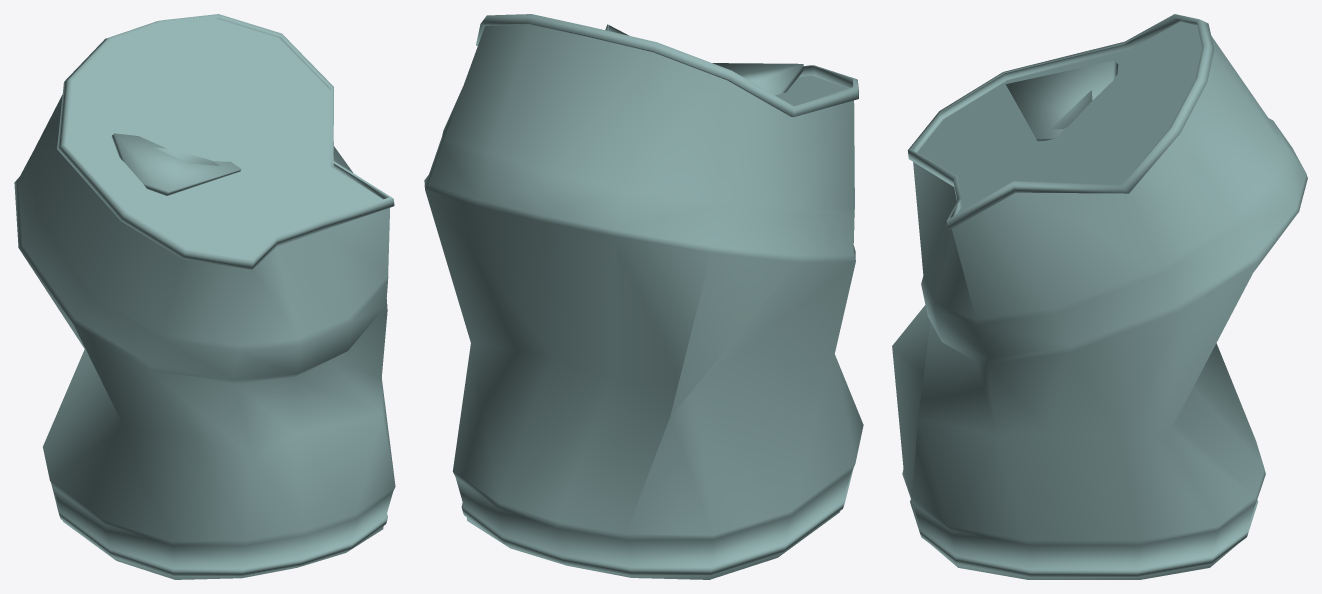
The model's file is DAMAGECAN.fbx.
3 views of the same model, side by side, from view 1: azimuth 30°, elevation 25°; view 2: azimuth 150°, elevation 25°; view 3: azimuth 270°, elevation 25° (orthographic). The views are drawn at different scales.
Visible parts, largest first — view 1: Cube; view 2: Cube; view 3: Cube.
Boxes of the visible parts, x1,y1,x2,y2 form: Cube: (14,14,395,579); Cube: (424,14,863,579); Cube: (892,14,1307,579).
Size of the model in its own units: 2.25 by 3.04 by 2.44.
